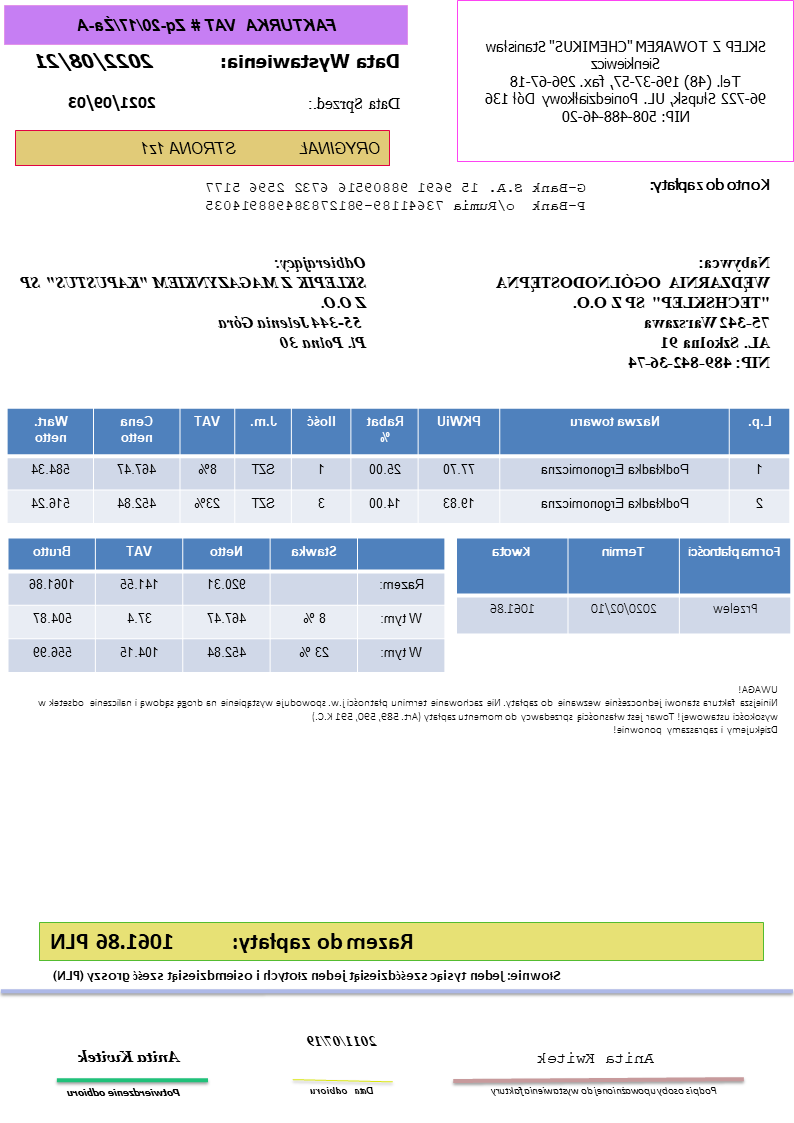Table: (6, 404, 792, 528), (7, 537, 449, 674), (453, 535, 792, 636)
TextBox: (34, 680, 781, 738), (18, 254, 371, 355), (490, 252, 775, 375), (479, 34, 774, 128), (201, 179, 593, 214), (51, 964, 565, 985), (47, 926, 417, 953), (70, 10, 343, 37), (139, 137, 383, 159), (217, 49, 404, 75), (486, 1083, 722, 1098), (33, 47, 155, 72), (647, 174, 776, 196), (304, 93, 406, 114), (538, 1049, 657, 1066), (73, 1047, 185, 1065), (65, 94, 159, 113), (62, 1086, 183, 1100), (302, 1032, 379, 1049), (304, 1083, 376, 1097)
